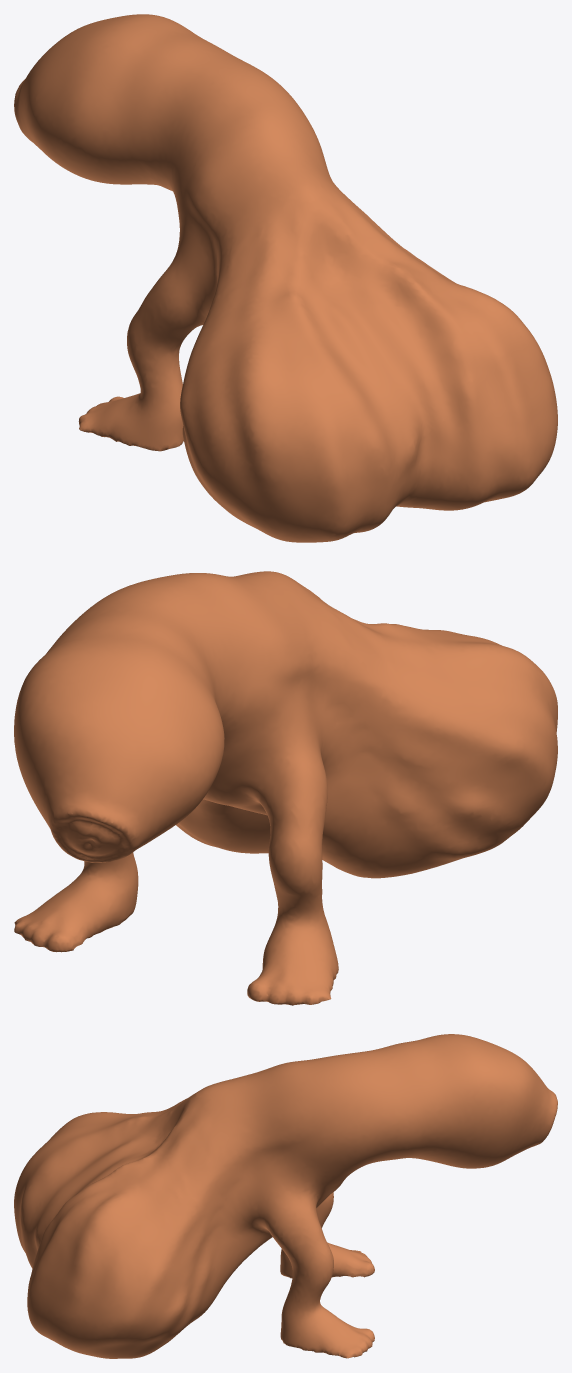
Rendered from PenisMan.fbx.
3 views of the same model, one above another, from view 1: azimuth 30°, elevation 25°; view 2: azimuth 150°, elevation 25°; view 3: azimuth 270°, elevation 25° (orthographic). The views are drawn at different scales.
Visible parts, largest first — view 1: Object_2; view 2: Object_2; view 3: Object_2.
Boxes of the visible parts, x1,y1,x2,y2 form: Object_2: (14, 14, 557, 542); Object_2: (14, 571, 557, 1005); Object_2: (14, 1034, 557, 1358).
Size of the model in its own units: 33.03 by 29.47 by 54.23.
